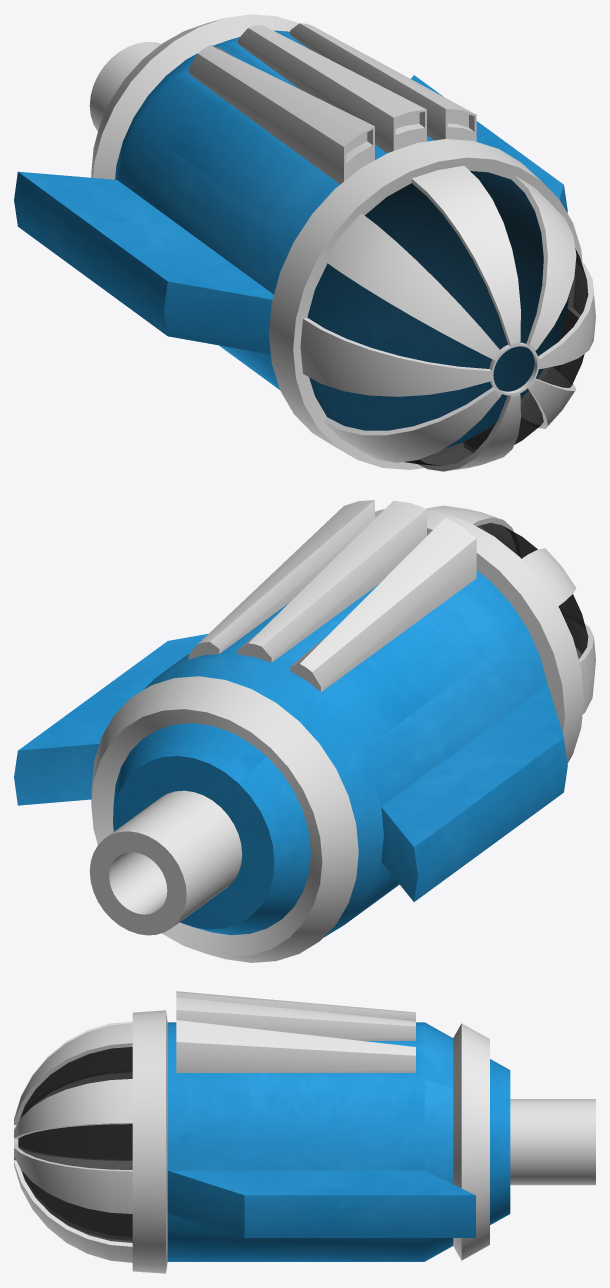
The model's file is Enemy3.fbx.
The picture shows the model from 3 angles, top to bottom: view 1: azimuth 30°, elevation 25°; view 2: azimuth 150°, elevation 25°; view 3: azimuth 270°, elevation 25°; orthographic projection. The views are drawn at different scales.
Visible parts, largest first — view 1: Enemy3; view 2: Enemy3; view 3: Enemy3.
Boxes of the visible parts, x1,y1,x2,y2 form: Enemy3: (14,14,595,471); Enemy3: (14,500,595,962); Enemy3: (14,991,595,1273).
Bounding box in the file's own units: 4.2 × 3.34 × 6.79.
